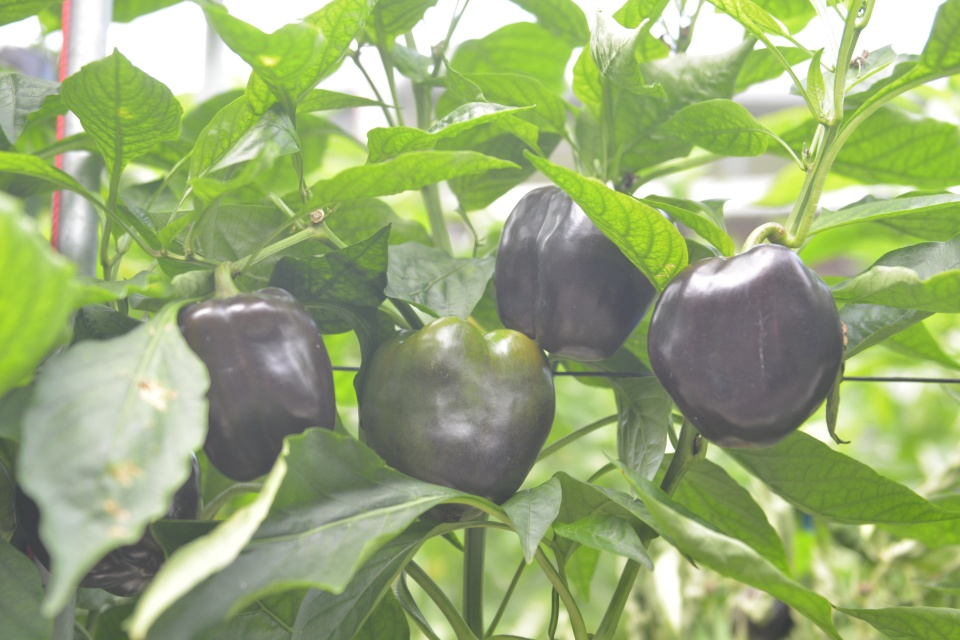fruit: (358, 312, 558, 526), (644, 248, 847, 453), (491, 182, 677, 364), (175, 283, 338, 485), (7, 451, 204, 600)
